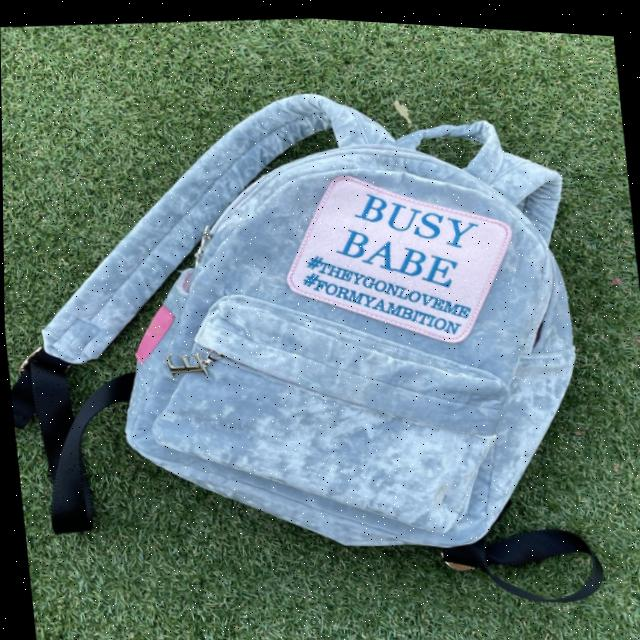backpack: (0, 36, 634, 629)
